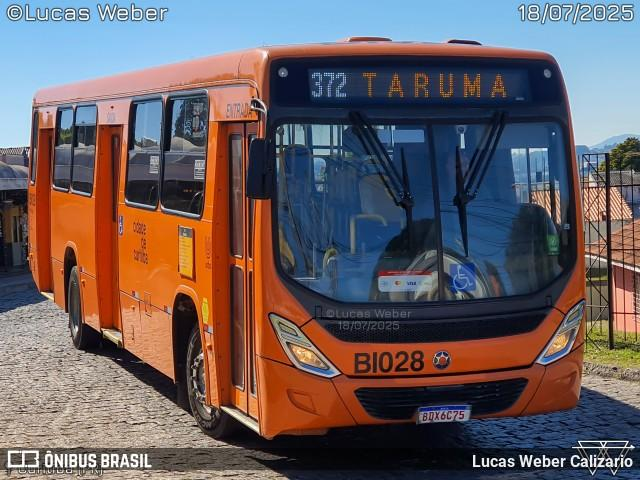TARUMA: (356, 67, 512, 101)
